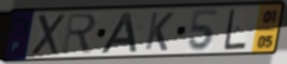5: (188, 7, 221, 54)
A: (98, 11, 140, 55)
K: (143, 11, 176, 53)
L: (223, 8, 248, 52)
R: (60, 12, 98, 56)
X: (29, 13, 66, 57)
